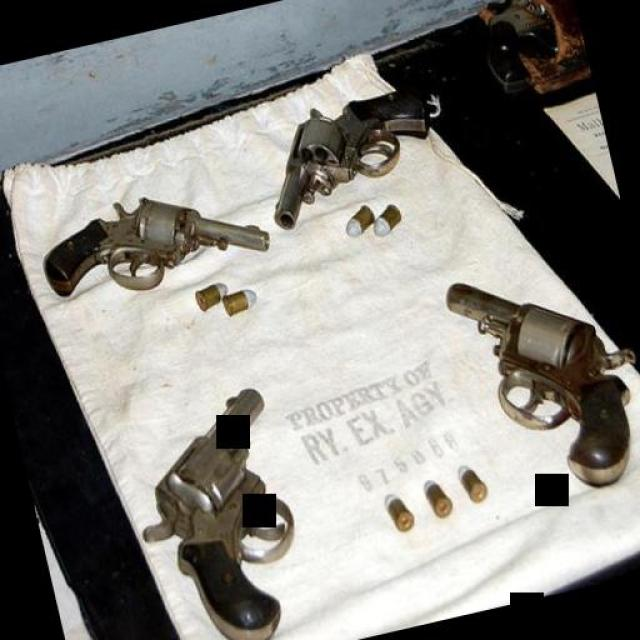gun: (434, 244, 640, 516), (110, 376, 320, 640), (32, 172, 272, 306), (253, 76, 445, 232), (470, 0, 591, 100)
